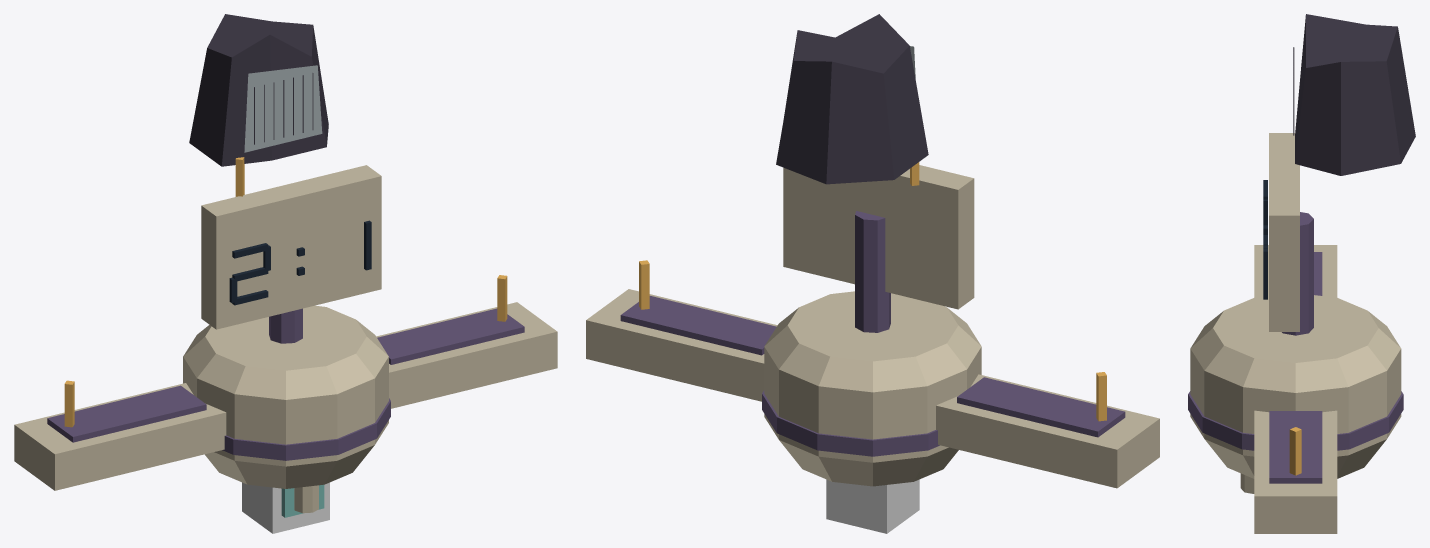
File: space_port_stone.glb
3 views of the same model, side by side, from view 1: azimuth 30°, elevation 25°; view 2: azimuth 150°, elevation 25°; view 3: azimuth 270°, elevation 25° (orthographic). The views are drawn at different scales.
Visible parts, largest first — view 1: FixedDetails, WoodBody, BrassTrim; view 2: FixedDetails, WoodBody, BrassTrim; view 3: FixedDetails, BrassTrim.
Boxes of the visible parts, left/top/right/bottom form: FixedDetails: left=14, top=14, right=557, bottom=517; WoodBody: left=242, top=482, right=329, bottom=533; BrassTrim: left=64, top=157, right=507, bottom=427; FixedDetails: left=586, top=14, right=1159, bottom=488; WoodBody: left=826, top=479, right=919, bottom=533; BrassTrim: left=639, top=162, right=1106, bottom=421; FixedDetails: left=1188, top=14, right=1415, bottom=533; BrassTrim: left=1289, top=427, right=1301, bottom=475.
Size of the model in its own units: 0.79 by 0.721 by 0.3024.
